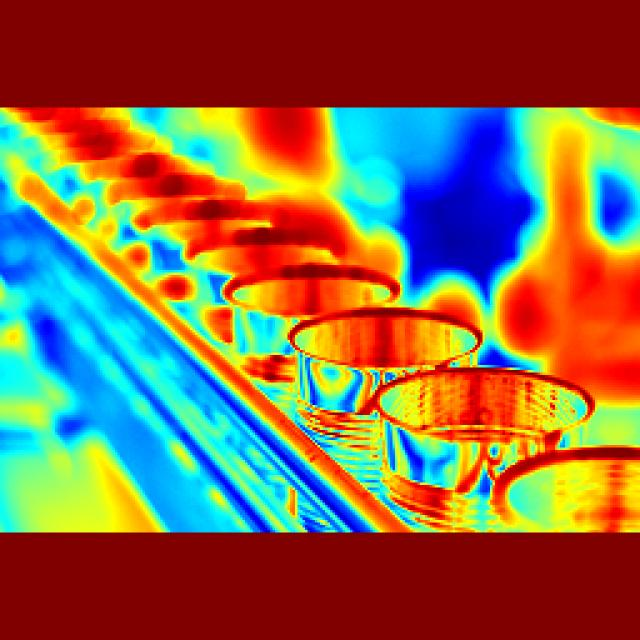Aluminium Food Cans: (378, 372, 560, 498), (470, 432, 640, 552), (288, 311, 456, 410), (226, 269, 389, 344), (197, 242, 315, 286), (164, 218, 263, 250)
